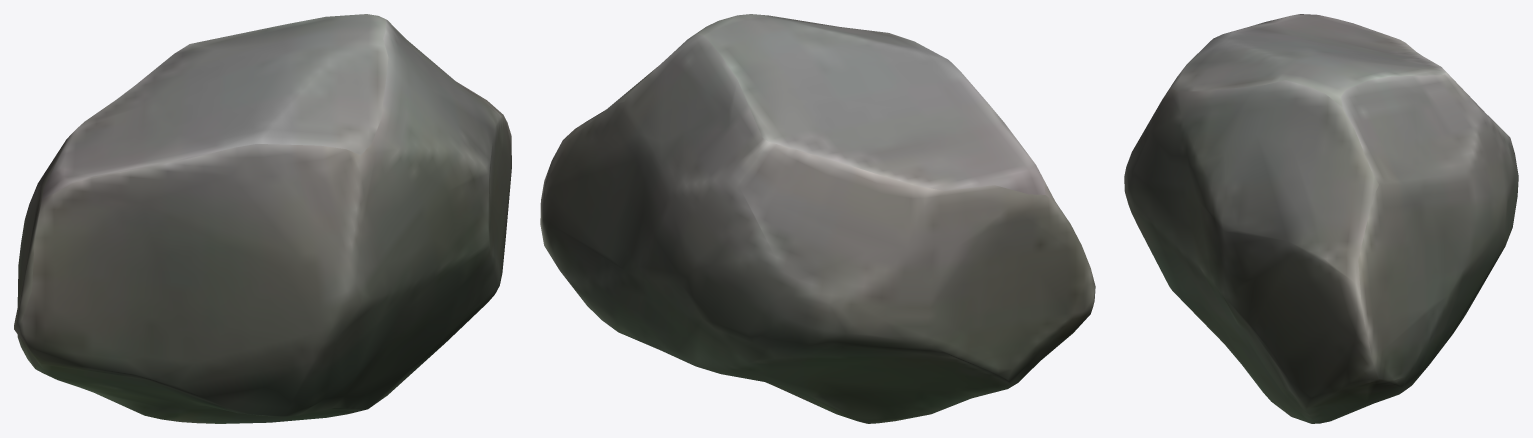
Rendered from stone_f.glb.
The picture shows the model from 3 angles, left to right: view 1: azimuth 30°, elevation 25°; view 2: azimuth 150°, elevation 25°; view 3: azimuth 270°, elevation 25°; orthographic projection. The views are drawn at different scales.
Parts seen in each view (by area): view 1: Small_4_SMall_0; view 2: Small_4_SMall_0; view 3: Small_4_SMall_0.
Part boxes in pixels (x1,y1,x2,y2): Small_4_SMall_0: (14,14,511,423); Small_4_SMall_0: (540,14,1095,423); Small_4_SMall_0: (1124,14,1518,423).
Bounding box in the file's own units: 1.91 × 1.28 × 1.33.
Materials: 1 (1 with a texture image).
